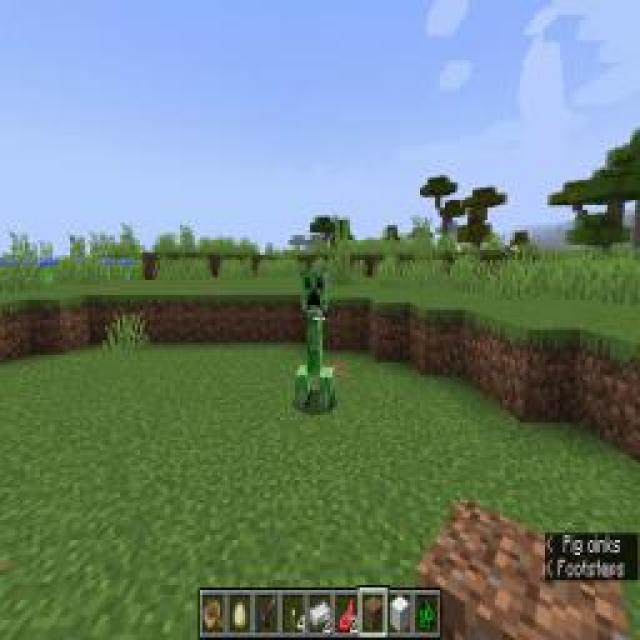Creeper: (294, 258, 338, 418)
